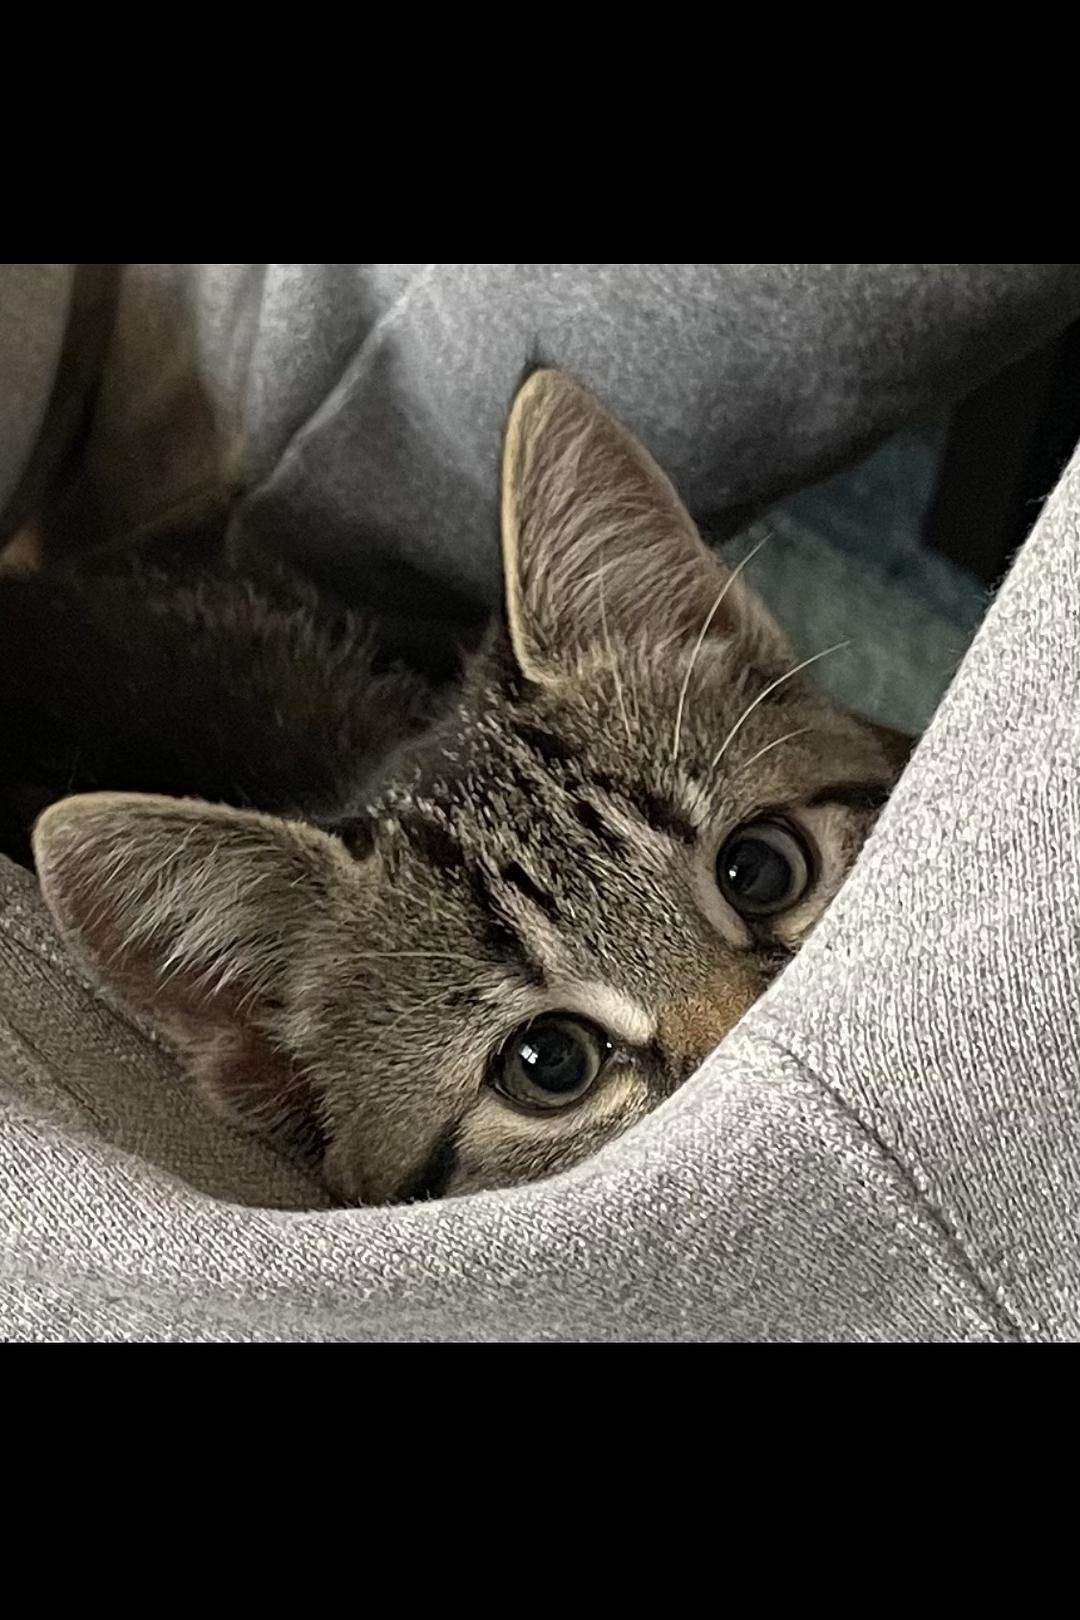cat: (35, 358, 923, 1208)
